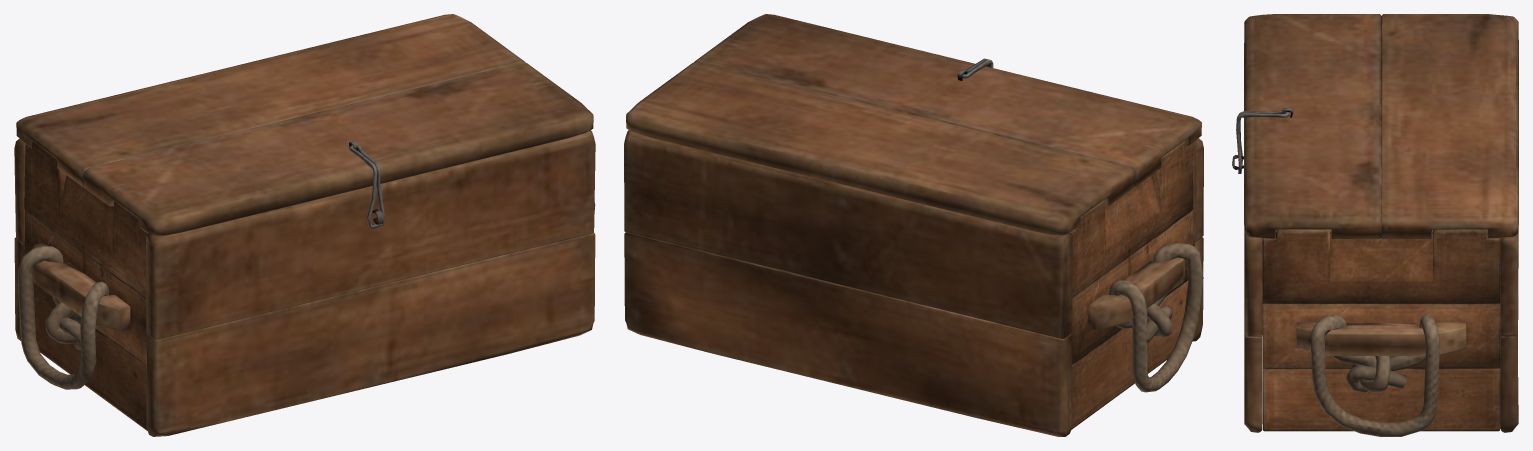
The model's file is wooden_crate_01.glb.
3 views of the same model, side by side, from view 1: azimuth 30°, elevation 25°; view 2: azimuth 150°, elevation 25°; view 3: azimuth 270°, elevation 25° (orthographic). The views are drawn at different scales.
Visible parts, largest first — view 1: wooden_crate_01_lid; view 2: wooden_crate_01_lid; view 3: wooden_crate_01_lid.
Part boxes in pixels (bbox=[...]): wooden_crate_01_lid: bbox=[14, 14, 595, 436]; wooden_crate_01_lid: bbox=[624, 14, 1203, 436]; wooden_crate_01_lid: bbox=[1232, 14, 1518, 436].
Size of the model in its own units: 0.8253 by 0.3495 by 0.4085.
1 material, 1 textured.
